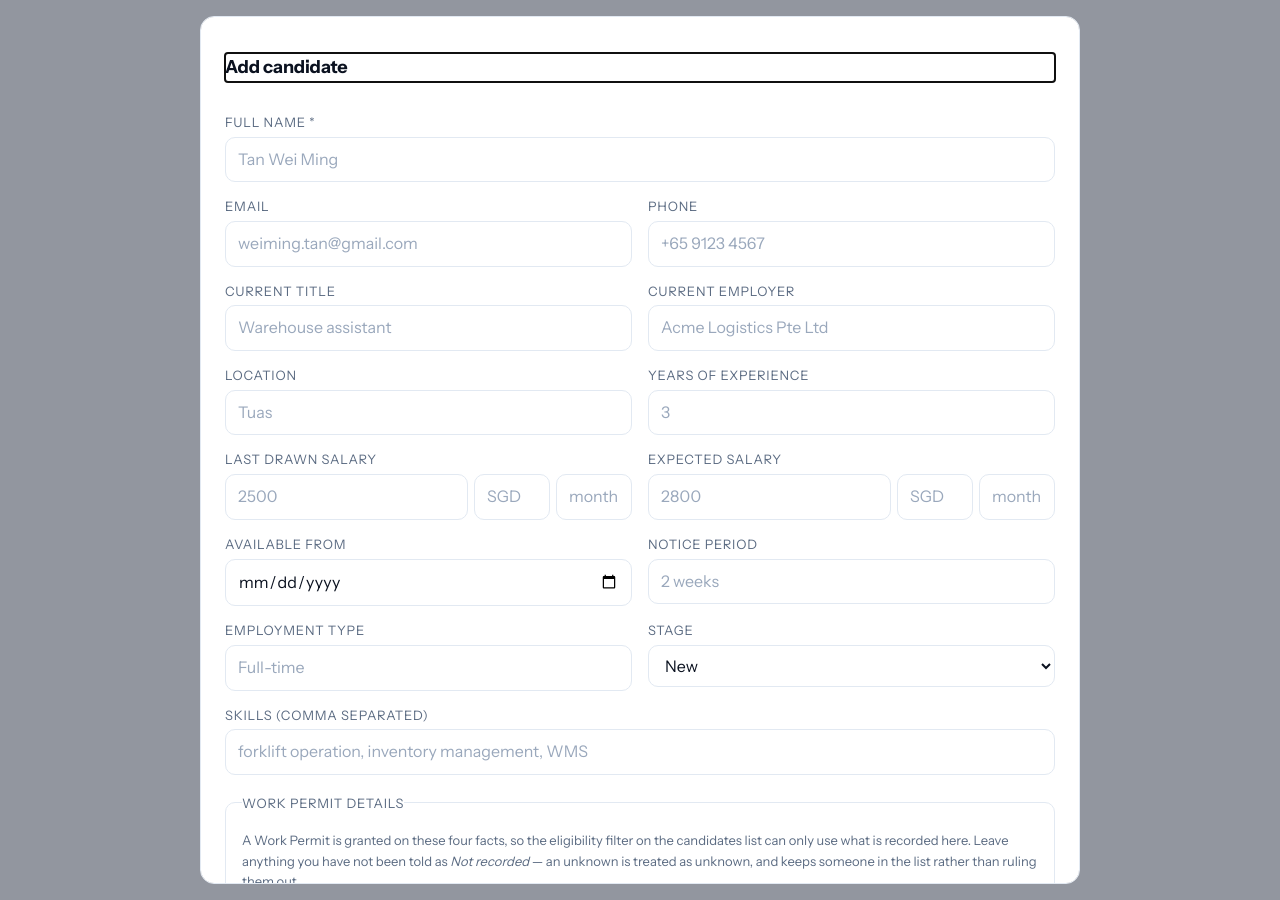
Scenario: a candidate a colleague already holds › offers to ask rather than showing a validation error
In the field labelled "Full name *": (640, 159) [225,137,1055,182], type "Wei Ming Tan"
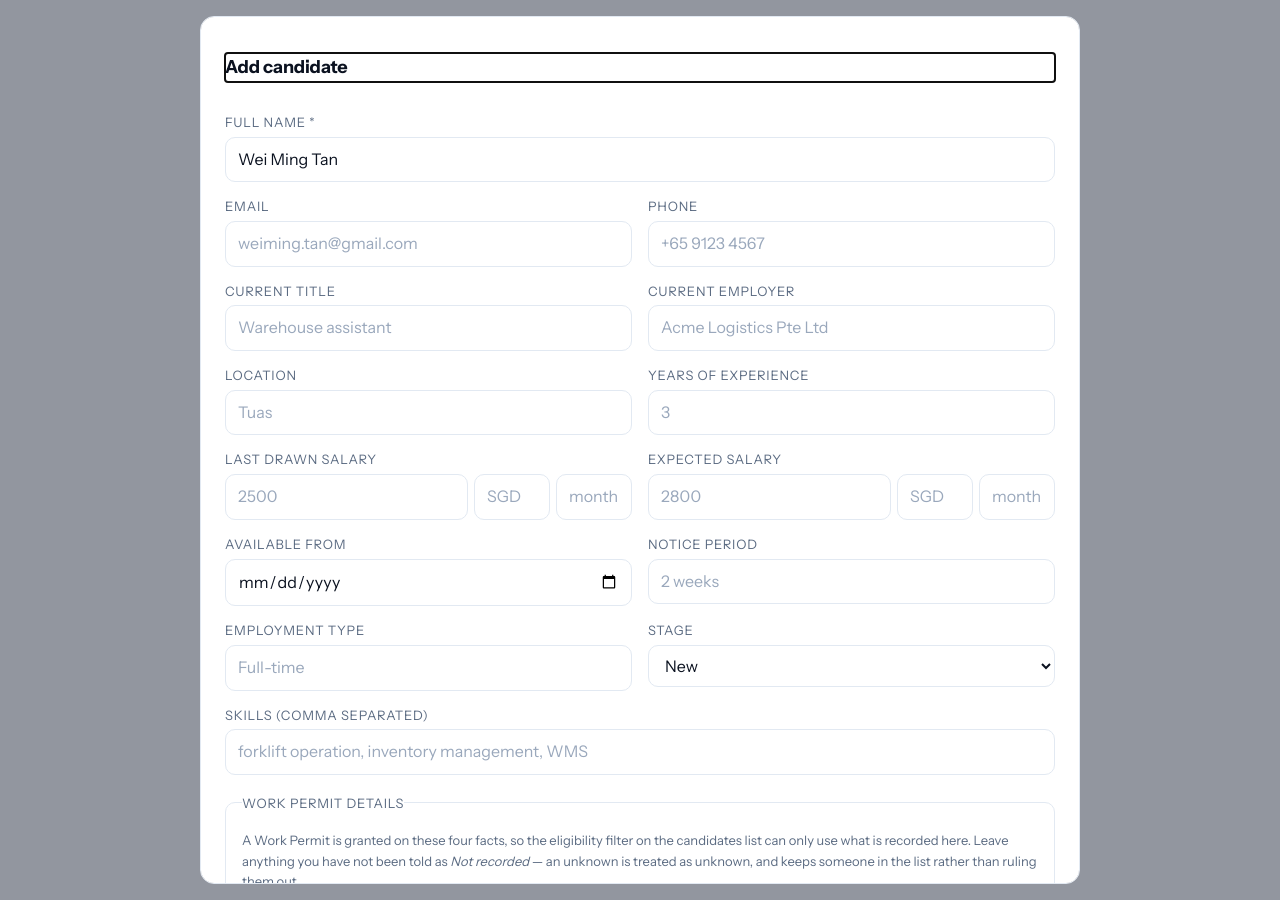
In the field labelled "Email": (428, 244) [225,221,632,267], type "weiming@example.com"
(page scrolled)
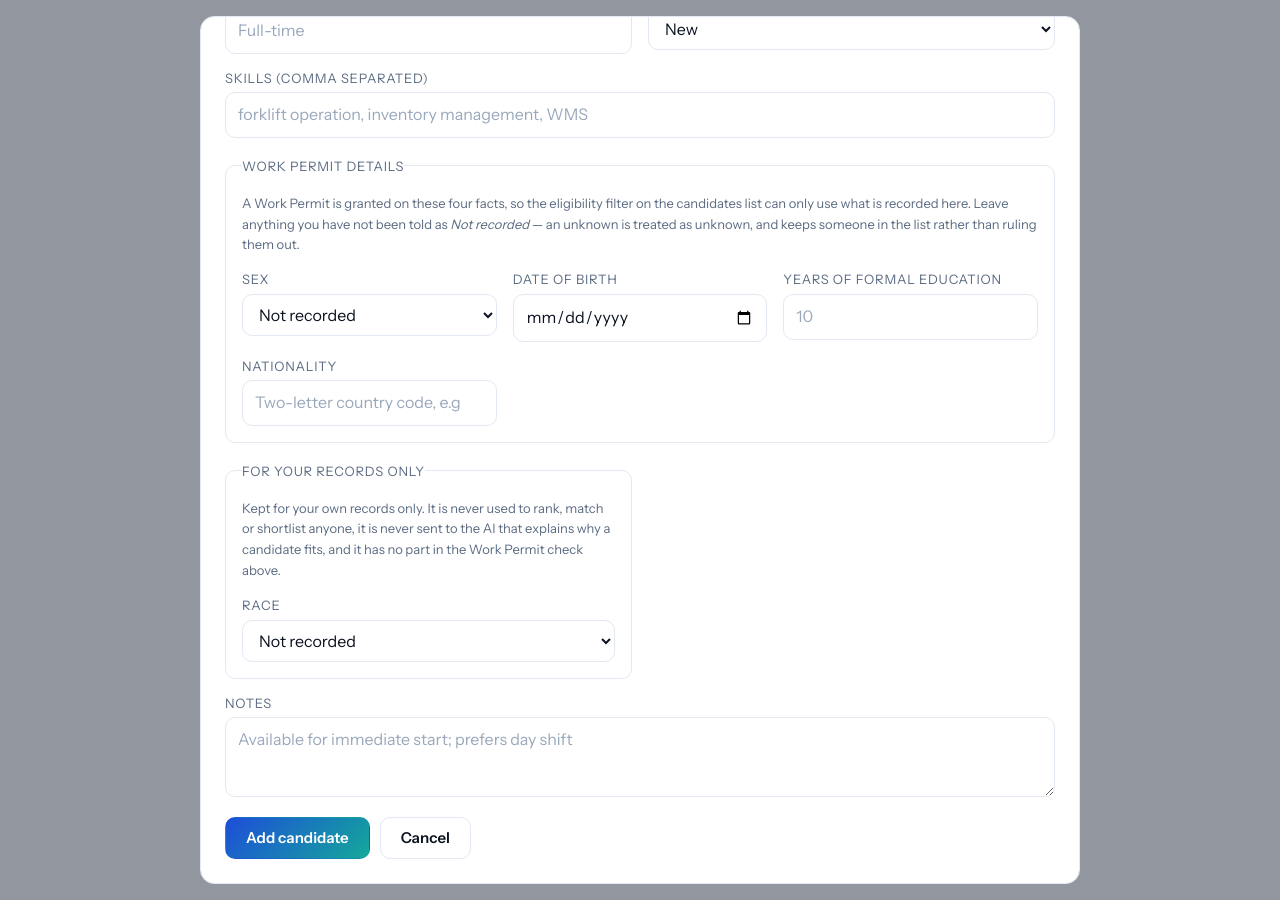
Click the button "Add candidate": (297, 838) [225,818,370,860]
(page scrolled)
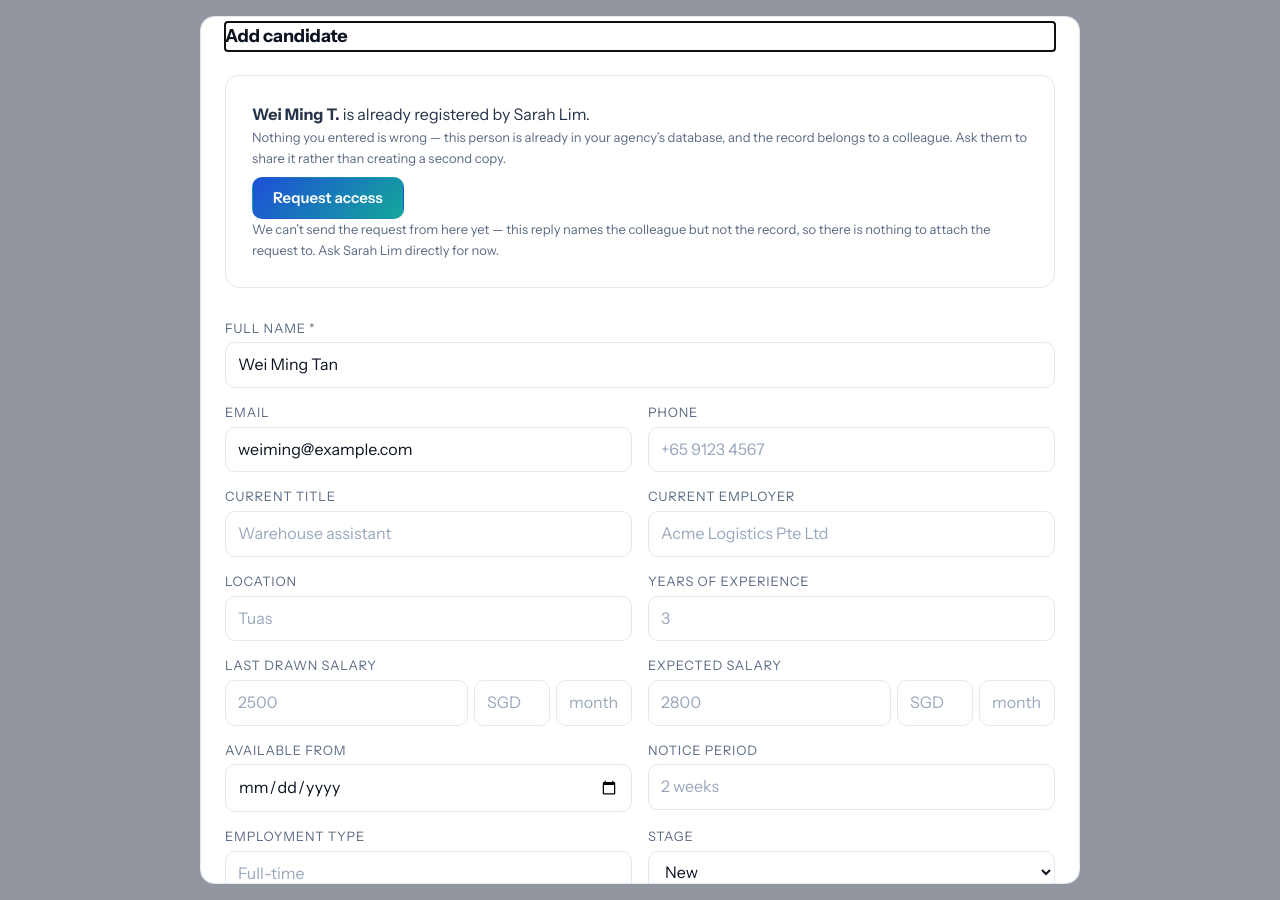
Expected: the text "Wei Ming T. is already registered by Sarah Lim." is shown, [252,104,590,124]
Expected: the button "Request access" is shown, [252,177,404,219]
